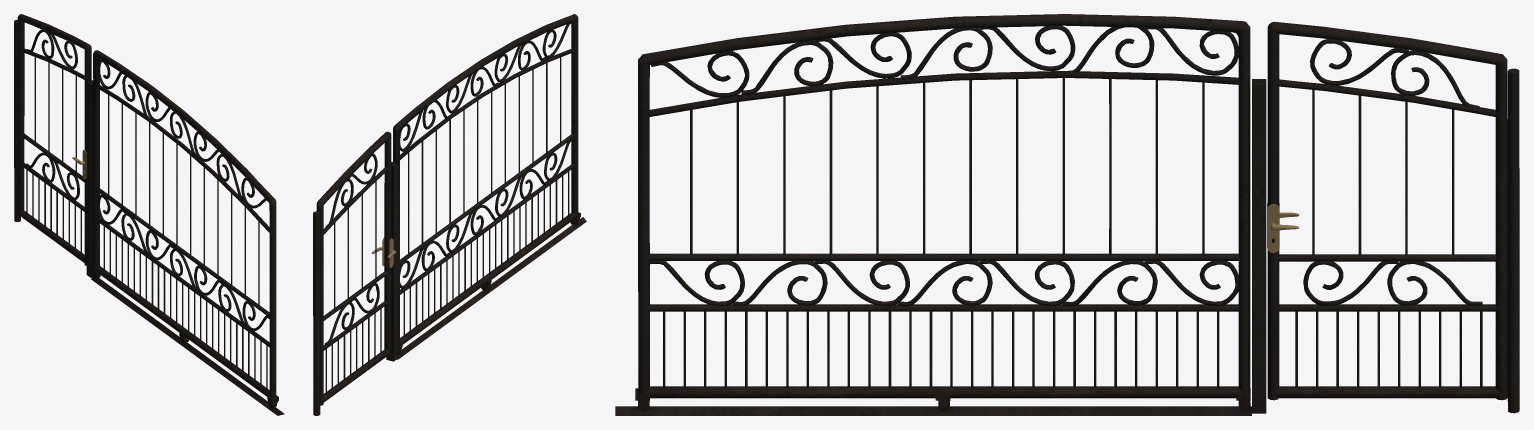
File: gate (1).glb
The picture shows the model from 3 angles, left to right: view 1: azimuth 30°, elevation 25°; view 2: azimuth 150°, elevation 25°; view 3: azimuth 270°, elevation 25°; orthographic projection. The views are drawn at different scales.
Parts seen in each view (by area): view 1: All1; view 2: All1, Maniglia1; view 3: All1, Maniglia1.
Part boxes in pixels (left/top/right/bottom): All1: left=14, top=14, right=284, bottom=415; All1: left=313, top=14, right=586, bottom=415; Maniglia1: left=371, top=237, right=396, bottom=267; All1: left=615, top=14, right=1519, bottom=415; Maniglia1: left=1267, top=202, right=1299, bottom=252.
Size of the model in its own units: 0.583 by 7.2 by 14.82.
Materials: 2 (1 with a texture image).
